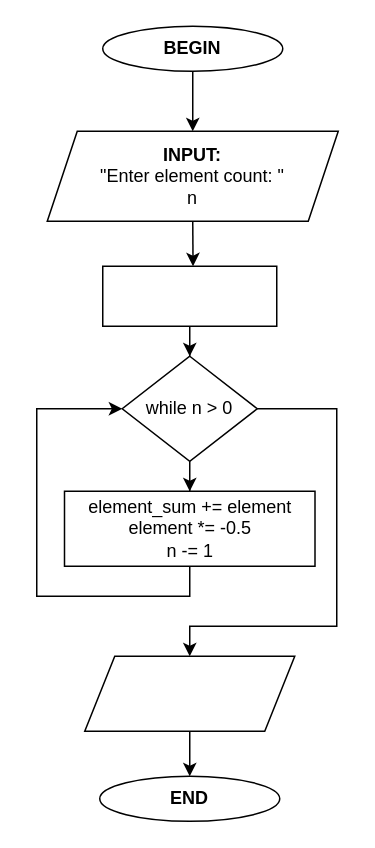
Image size: 375x848. Some labels were removed from this diagram. Here are the shapes that lost their labels. From the top down, the centre of each, then its label:
(x=189, y=295): element_sum = 0.0 element = 1.0
(x=189, y=693): OUTPUT: "Sum = " sum
